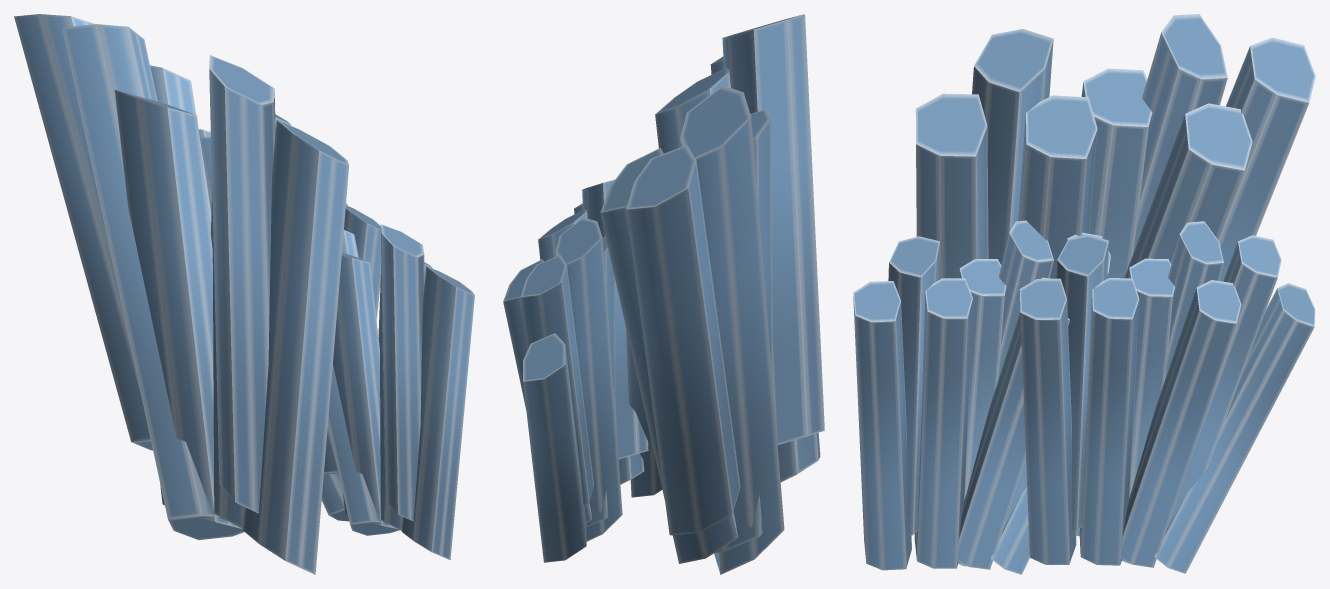
Rendered from wall_crystal_pipes_03.fbx.
The picture shows the model from 3 angles, left to right: view 1: azimuth 30°, elevation 25°; view 2: azimuth 150°, elevation 25°; view 3: azimuth 270°, elevation 25°; orthographic projection. The views are drawn at different scales.
Visible parts, largest first — view 1: wall_crystal_pipes_03; view 2: wall_crystal_pipes_03; view 3: wall_crystal_pipes_03.
Boxes of the visible parts, bbox=[...] form: wall_crystal_pipes_03: bbox=[14, 14, 474, 574]; wall_crystal_pipes_03: bbox=[503, 14, 824, 574]; wall_crystal_pipes_03: bbox=[853, 14, 1315, 574].
Bounding box in the file's own units: 0.8737 × 1.75 × 1.49.
1 material, 1 textured.
